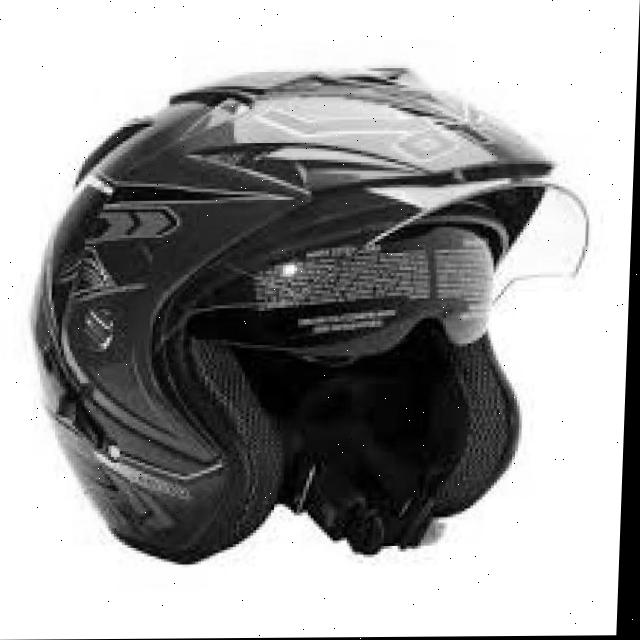Helmet: (19, 54, 592, 553)
